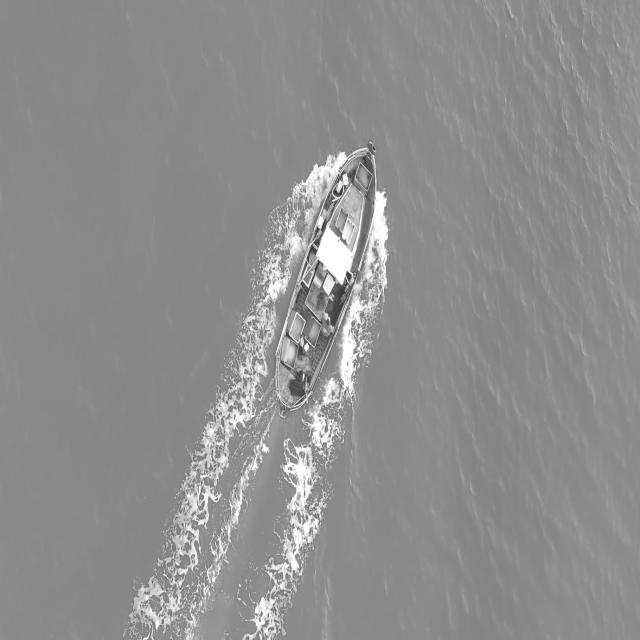ship: (268, 143, 383, 415)
